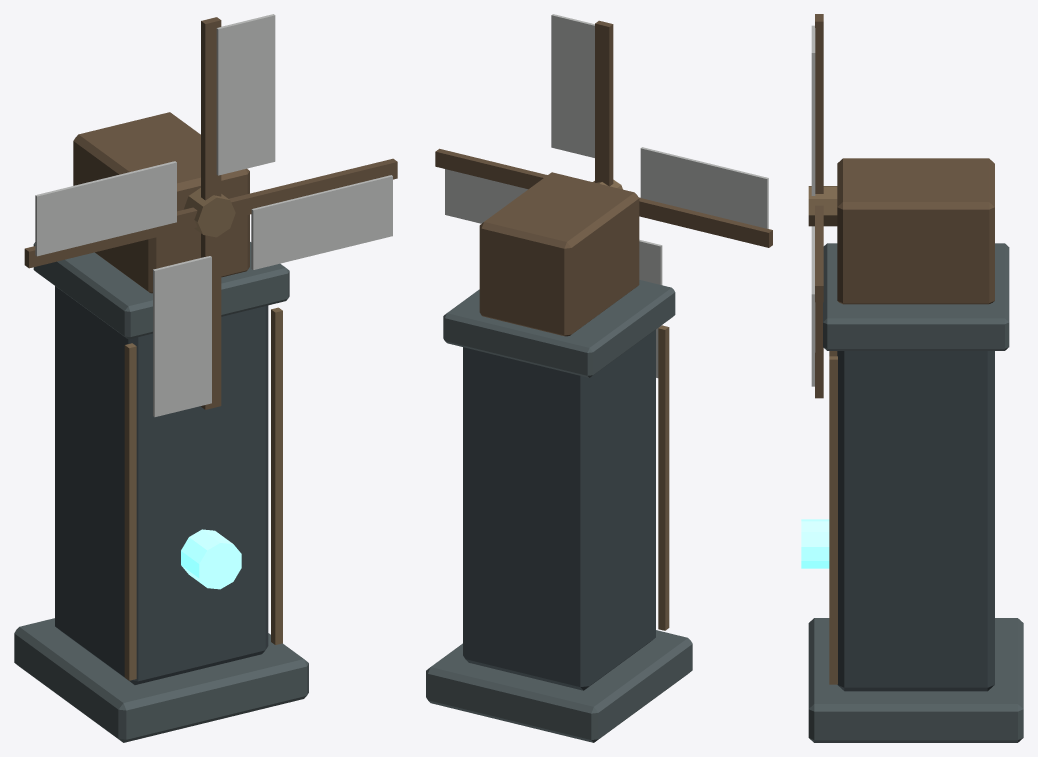
Rendered from hero_wind_machine.glb.
The picture shows the model from 3 angles, left to right: view 1: azimuth 30°, elevation 25°; view 2: azimuth 150°, elevation 25°; view 3: azimuth 270°, elevation 25°; orthographic projection. The views are drawn at different scales.
Parts seen in each view (by area): view 1: HeroWindMachine, Rotor; view 2: HeroWindMachine, Rotor; view 3: HeroWindMachine, Rotor.
Boxes of the visible parts, x1,y1,x2,y2 form: HeroWindMachine: [14, 112, 308, 742]; Rotor: [24, 14, 397, 417]; HeroWindMachine: [426, 172, 692, 742]; Rotor: [435, 14, 772, 377]; HeroWindMachine: [801, 158, 1023, 742]; Rotor: [808, 14, 837, 398].
Size of the model in its own units: 5.8 by 10.5 by 3.1.
